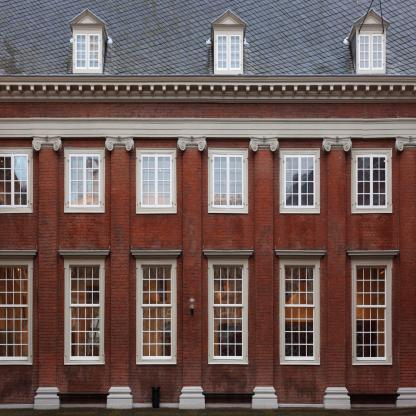Building Outline: (0, 0, 416, 409)
Cornice: (69, 8, 104, 24), (212, 9, 246, 25), (355, 9, 389, 25), (346, 250, 400, 259), (274, 250, 327, 259), (58, 250, 111, 259), (202, 250, 254, 259), (130, 250, 182, 259), (0, 250, 38, 259)
Facade: (0, 99, 416, 407)
Floor: (0, 110, 416, 235)
Floor Slab: (0, 228, 416, 235), (0, 103, 416, 110)
Ground Floor: (0, 235, 416, 407)
Molding: (0, 85, 416, 94)
Pillar: (31, 135, 62, 410), (104, 135, 134, 409), (177, 135, 207, 409), (322, 135, 352, 409), (249, 136, 279, 409), (395, 135, 416, 408)
Roof: (0, 0, 416, 74)
Top Floor: (0, 0, 416, 99)
Window: (141, 265, 172, 360), (69, 266, 100, 361), (285, 265, 315, 361), (213, 265, 243, 360), (357, 266, 387, 360), (0, 266, 28, 361), (356, 154, 387, 209), (69, 154, 100, 208), (141, 154, 172, 208), (213, 154, 244, 208), (284, 155, 315, 209), (0, 153, 28, 207), (75, 33, 100, 70), (217, 34, 241, 71), (359, 34, 383, 70)
dont: (151, 386, 161, 409)
